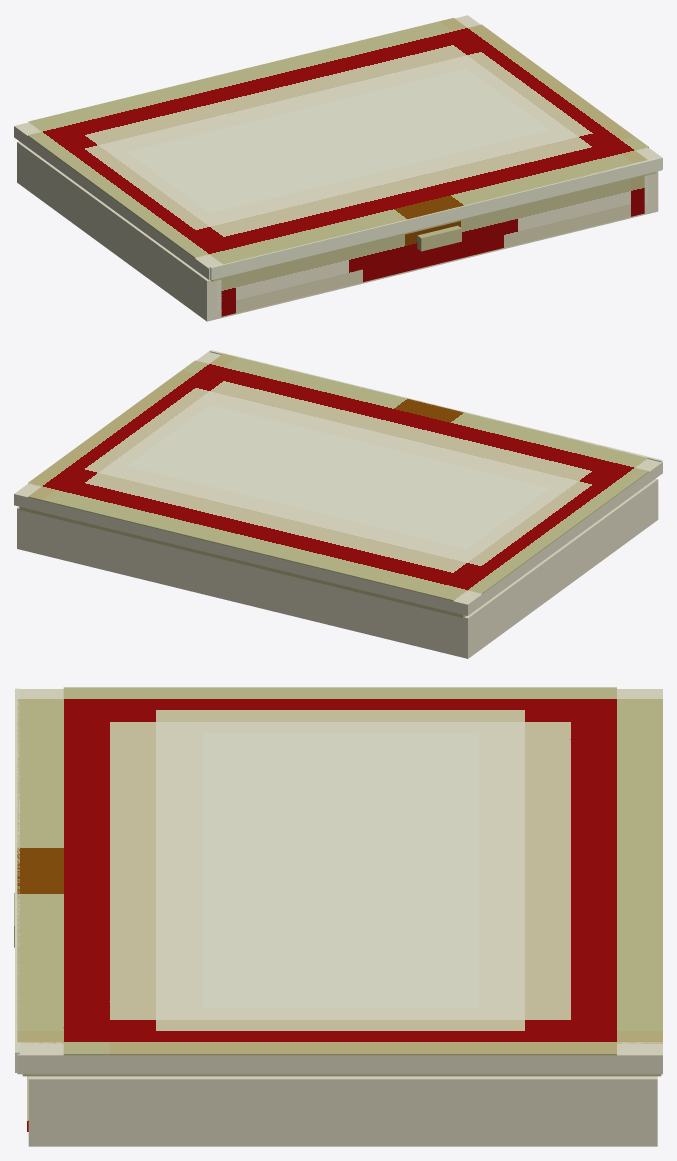
The model's file is CMU3DFoodPizzaBoxCloud.glb.
3 renders of one model, top to bottom at view 1: azimuth 30°, elevation 25°; view 2: azimuth 150°, elevation 25°; view 3: azimuth 270°, elevation 25°, orthographic. The views are drawn at different scales.
Visible parts, largest first — view 1: original lid border and source brand artwork, original front print and closure tab, left hollow carton wall, front lid rolled fold, independent cardboard lid, folded cardboard bottom, lid underside shadow and seam, folded closure tongue; view 2: original lid border and source brand artwork, rear folded rim, independent cardboard lid, left hollow carton wall, folded cardboard bottom, lid underside shadow and seam, front lid rolled fold; view 3: original lid border and source brand artwork, right hollow carton wall, independent cardboard lid, folded cardboard bottom, lid underside shadow and seam, front lid rolled fold.
Boxes of the visible parts, left/top/right/bottom form: original lid border and source brand artwork: left=28, top=18, right=648, bottom=264; original front print and closure tab: left=221, top=176, right=644, bottom=316; left hollow carton wall: left=17, top=141, right=216, bottom=312; front lid rolled fold: left=209, top=157, right=662, bottom=280; independent cardboard lid: left=14, top=15, right=662, bottom=279; folded cardboard bottom: left=17, top=174, right=658, bottom=321; lid underside shadow and seam: left=211, top=172, right=656, bottom=281; folded closure tongue: left=417, top=225, right=461, bottom=251; original lid border and source brand artwork: left=28, top=353, right=648, bottom=600; rear folded rim: left=27, top=512, right=458, bottom=647; independent cardboard lid: left=14, top=351, right=662, bottom=615; left hollow carton wall: left=458, top=478, right=658, bottom=649; folded cardboard bottom: left=17, top=511, right=658, bottom=658; lid underside shadow and seam: left=19, top=506, right=466, bottom=618; front lid rolled fold: left=209, top=350, right=662, bottom=461; original lid border and source brand artwork: left=17, top=687, right=662, bottom=1055; right hollow carton wall: left=28, top=1076, right=657, bottom=1131; independent cardboard lid: left=17, top=689, right=662, bottom=1074; folded cardboard bottom: left=28, top=1131, right=657, bottom=1146; lid underside shadow and seam: left=22, top=1074, right=661, bottom=1076; front lid rolled fold: left=15, top=688, right=19, bottom=1072.
Size of the model in its own units: 1.01 by 0.12 by 0.753.
Materials: 5 (2 with a texture image).
